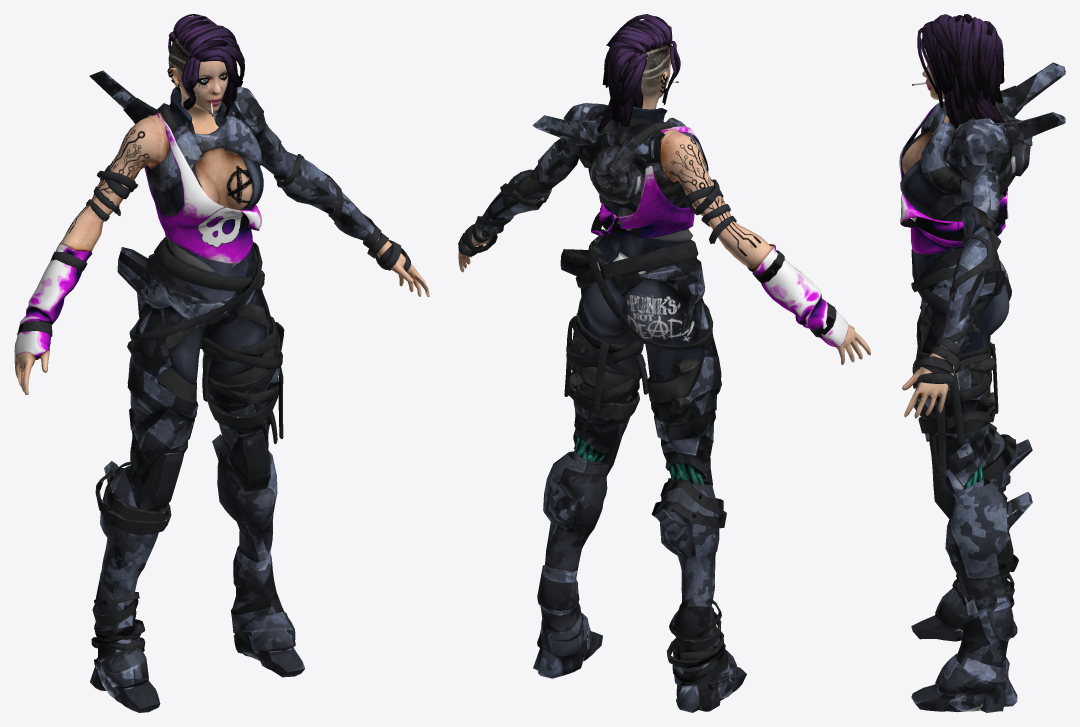
Rendered from Avril.FBX.
3 renders of one model, left to right at view 1: azimuth 30°, elevation 25°; view 2: azimuth 150°, elevation 25°; view 3: azimuth 270°, elevation 25°, orthographic.
Parts seen in each view (by area): view 1: Body, Avril Avant; view 2: Body, Avril Avant; view 3: Body, Avril Avant.
Part boxes in pixels (<box>): Body: <box>14,70,429,712</box>; Avril Avant: <box>167,14,244,134</box>; Body: <box>458,103,870,712</box>; Avril Avant: <box>597,14,680,132</box>; Body: <box>899,62,1065,712</box>; Avril Avant: <box>912,14,1004,128</box>.
Bounding box in the file's own units: 16.98 × 26.43 × 6.09.
